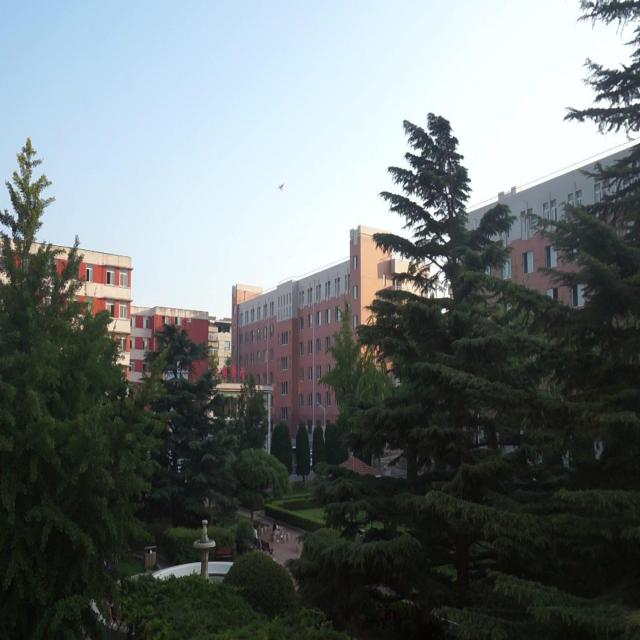UAV: (278, 182, 284, 190)
